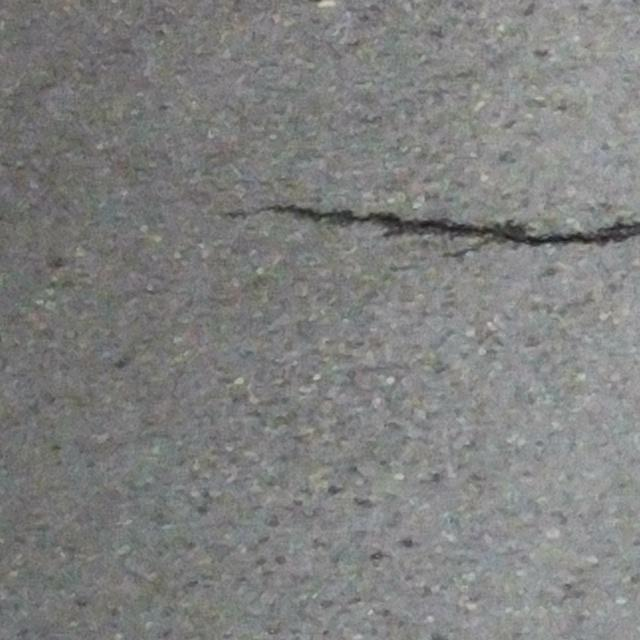TransverseCrack: (228, 202, 640, 258)
